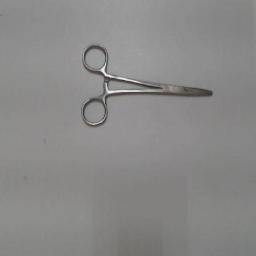Mayo Needle Holder: (78, 38, 218, 132)
